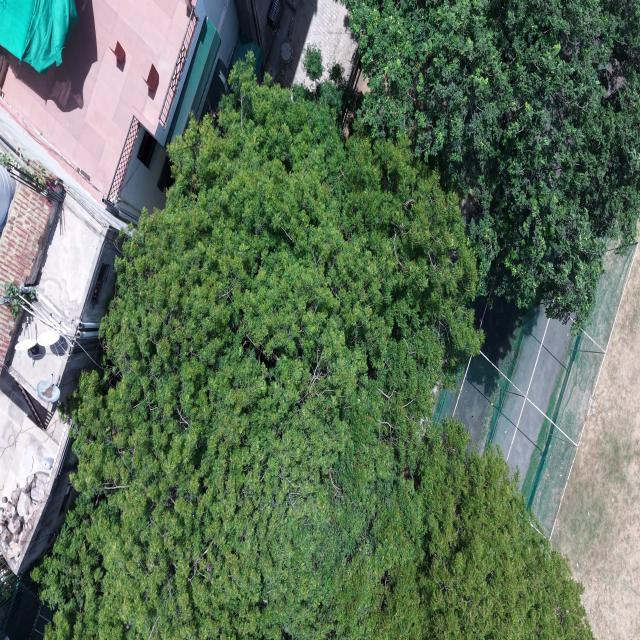DRY_AREA: (552, 256, 639, 639)
VEGETATION_TREE: (34, 61, 591, 639), (350, 0, 639, 320), (292, 63, 362, 137), (303, 45, 324, 82)
